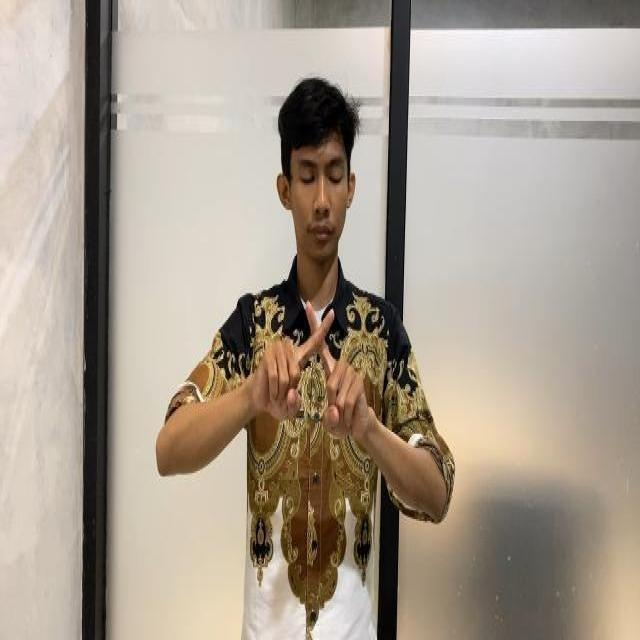X: (240, 289, 381, 450)
